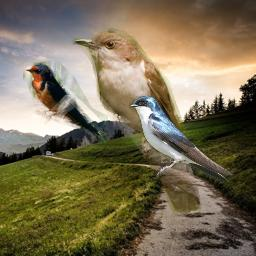Cuckoo: (71, 28, 202, 216)
Swallow: (129, 96, 234, 183), (23, 61, 108, 143)
